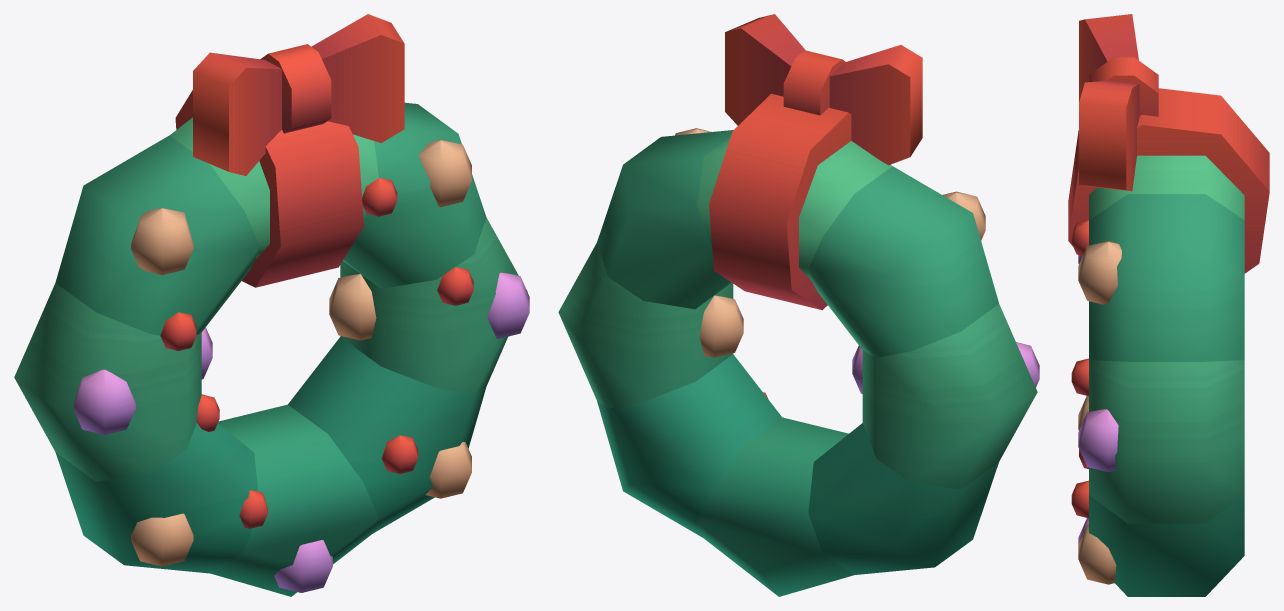
The model's file is julkrans.glb.
3 views of the same model, side by side, from view 1: azimuth 30°, elevation 25°; view 2: azimuth 150°, elevation 25°; view 3: azimuth 270°, elevation 25° (orthographic). The views are drawn at different scales.
Visible parts, largest first — view 1: wreath-decorated; view 2: wreath-decorated; view 3: wreath-decorated.
Boxes of the visible parts, <box> form: wreath-decorated: <box>14,14,529,596</box>; wreath-decorated: <box>558,14,1039,596</box>; wreath-decorated: <box>1068,14,1269,596</box>.
Size of the model in its own units: 0.6714 by 0.7624 by 0.2592.
1 material, 1 textured.
